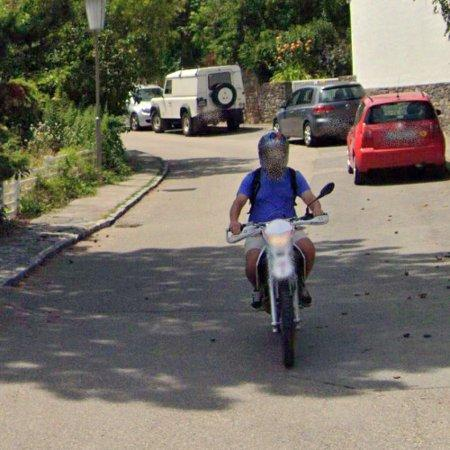motorcycles: (227, 182, 336, 368)
